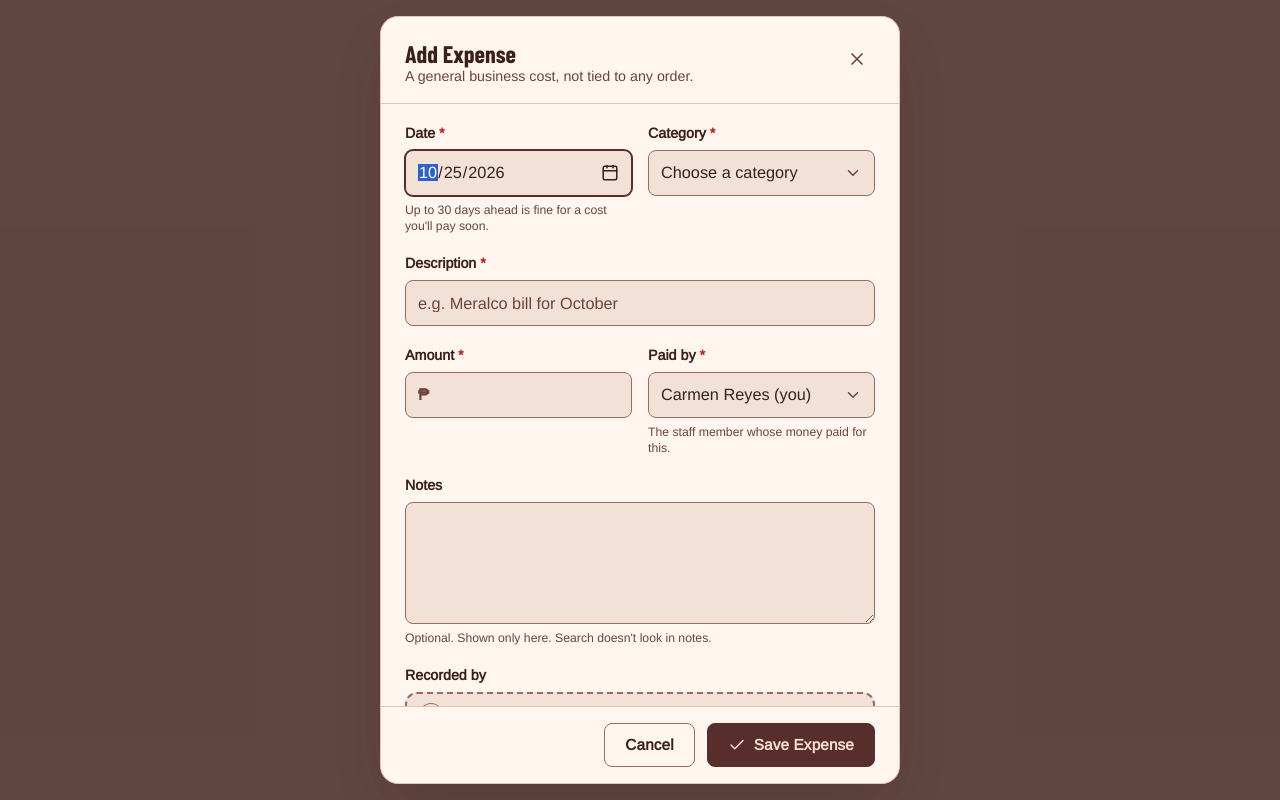
E2 checks before sending (OR-3) › shows every required message at once, sends nothing, keeps Save Expense enabled and focuses Category
The image size is (1280, 800).
Expected: the dropdown labelled "Category *" is enabled, [649, 151, 874, 195]
Expected: the dropdown labelled "Paid by *" is enabled, [649, 373, 874, 417]
Step 1. Click the button "Save Expense" → (791, 745), box [707, 723, 875, 767]
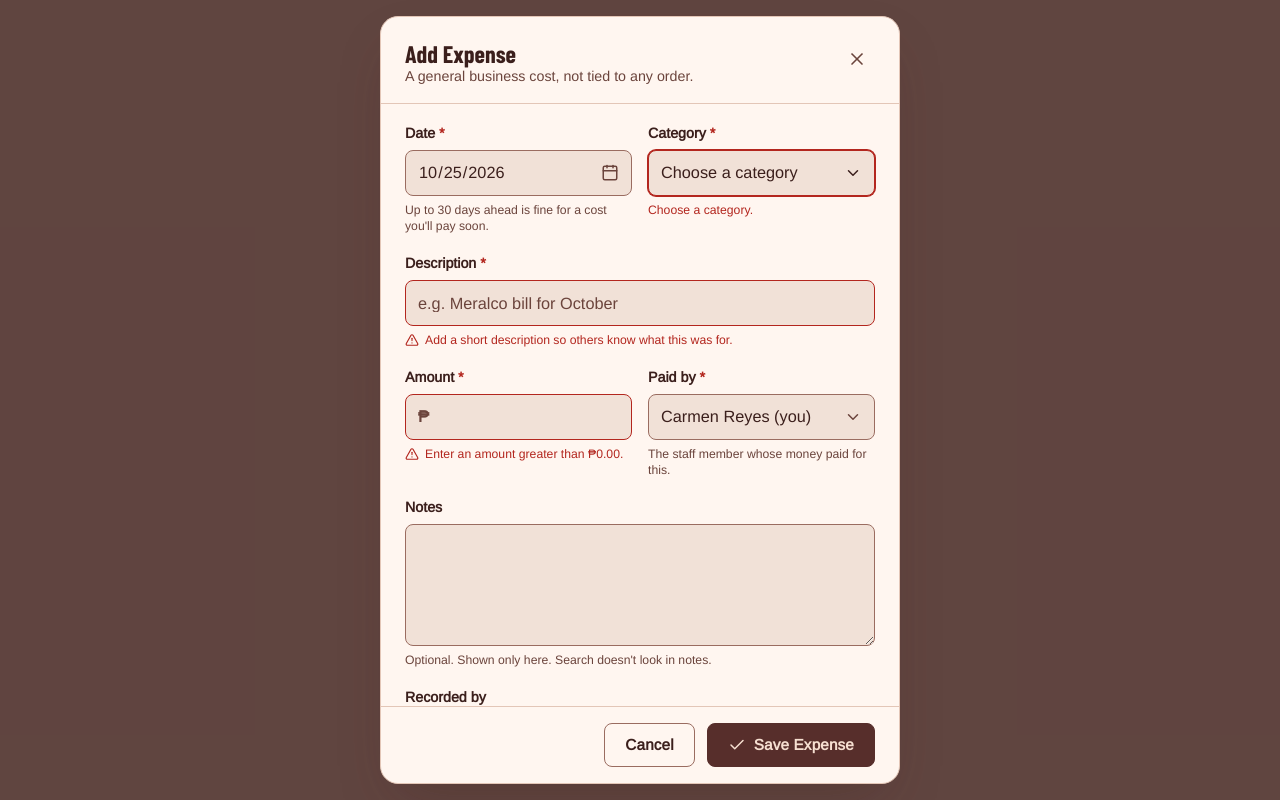
Result: the text "Choose a category." is shown at [648, 203, 753, 217]
Result: the text "Add a short description so others know what this was for." is shown at [405, 333, 733, 347]
Result: the text "Enter an amount greater than ₱0.00." is shown at [405, 446, 632, 462]
